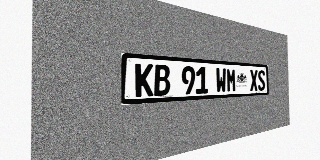1: (195, 67, 208, 94)
9: (182, 66, 195, 95)
B: (154, 64, 170, 96)
K: (135, 63, 153, 97)
M: (226, 68, 236, 92)
S: (258, 70, 265, 91)
W: (216, 68, 226, 93)
X: (250, 69, 258, 91)
